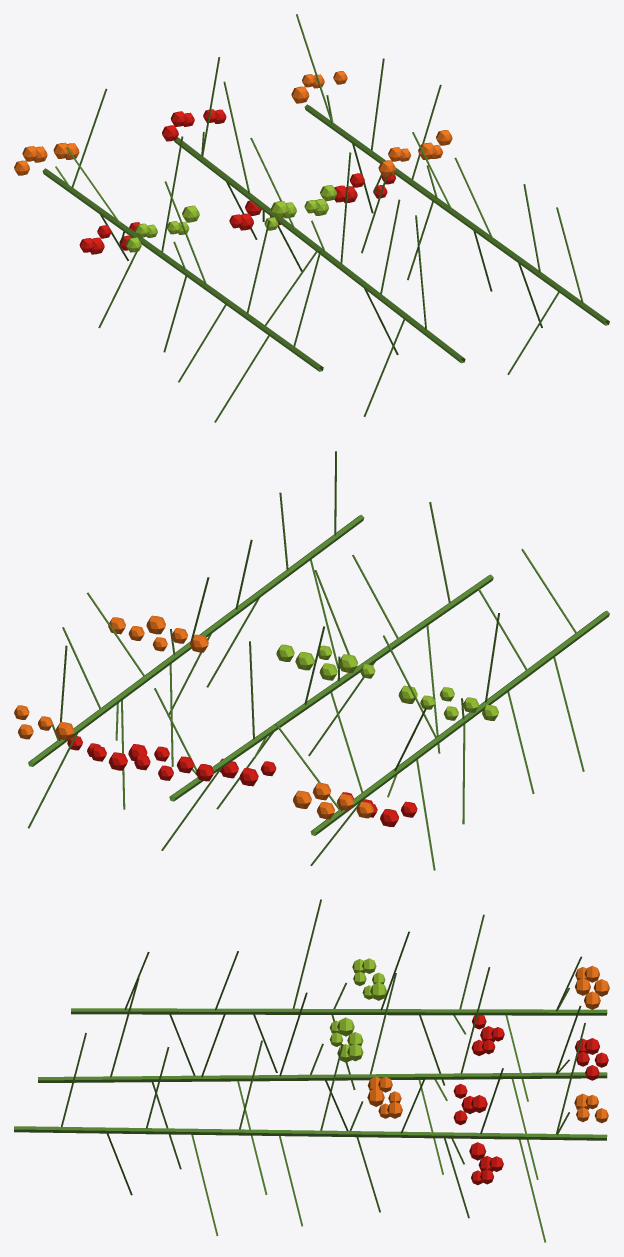
Rendered from r17c5_stems.obj.
The picture shows the model from 3 angles, top to bottom: view 1: azimuth 30°, elevation 25°; view 2: azimuth 150°, elevation 25°; view 3: azimuth 270°, elevation 25°; orthographic projection. The views are drawn at different scales.
Visible parts, largest first — view 1: r17c5_stems; view 2: r17c5_stems; view 3: r17c5_stems.
Part boxes in pixels (x1,y1,x2,y2): r17c5_stems: (14, 14, 609, 422); r17c5_stems: (14, 451, 609, 870); r17c5_stems: (14, 899, 609, 1242).
Bounding box in the file's own units: 1.46 × 0.8727 × 2.22.
